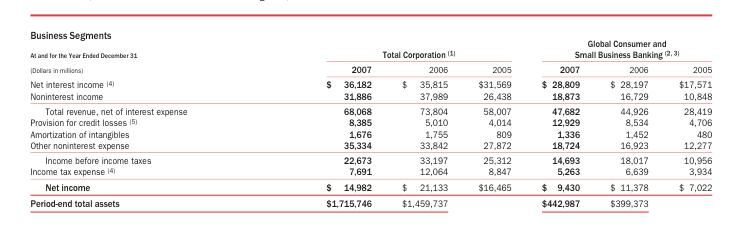table: (29, 28, 711, 208)
table column: (29, 28, 256, 208), (256, 28, 385, 208), (385, 28, 462, 208), (525, 28, 594, 208), (594, 28, 662, 208), (462, 28, 525, 208), (662, 28, 711, 208)
table column header: (29, 28, 711, 76)
table row: (29, 28, 711, 61), (29, 178, 711, 194), (29, 61, 711, 76), (29, 89, 711, 103), (29, 194, 711, 208), (29, 76, 711, 89), (29, 103, 711, 116), (29, 139, 711, 152), (29, 152, 711, 165), (29, 165, 711, 178), (29, 127, 711, 139), (29, 116, 711, 127)
table spanning cell: (29, 28, 256, 76), (256, 28, 525, 61), (525, 28, 711, 61)
